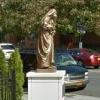Statue: (26, 3, 71, 75)
